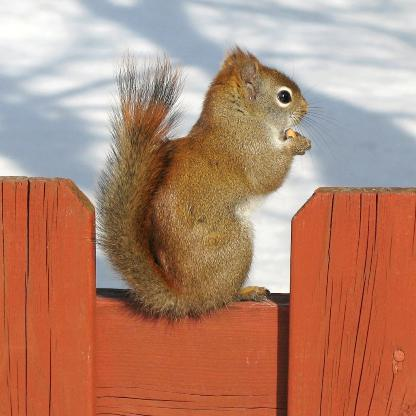Squirrel: (83, 42, 348, 322)
